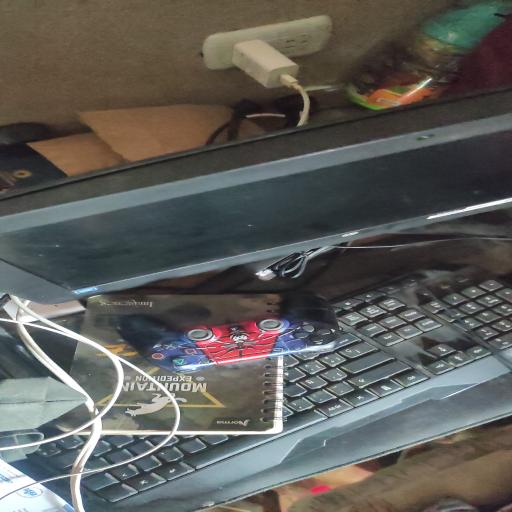ControlPlay4: (116, 292, 341, 373)
